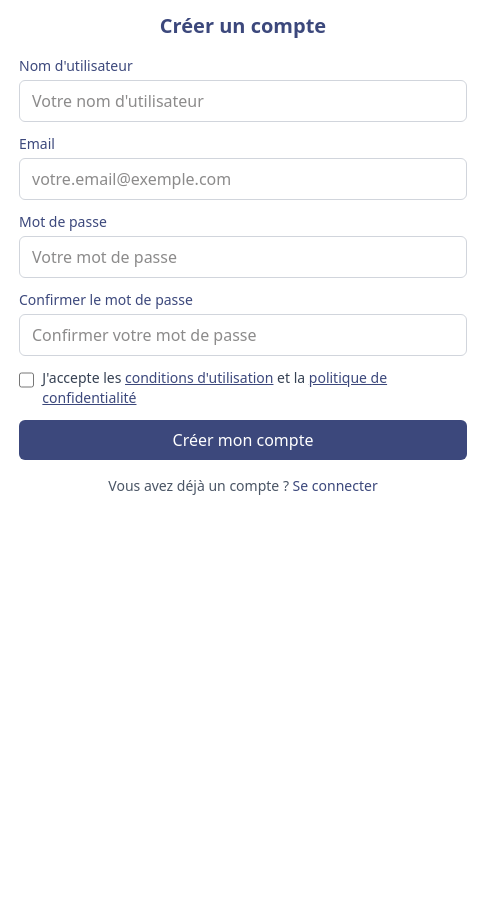
Register › shows an error toast when registerAction fails
In the field labelled "Nom d'utilisateur": (243, 101) [19, 80, 467, 122], type "user01"
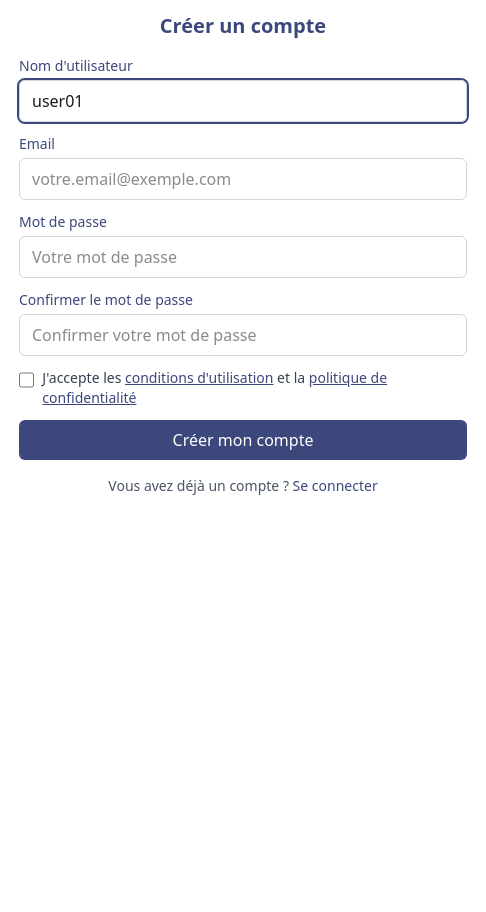
In the field labelled "Email": (243, 179) [19, 158, 467, 200], type "test@example.com"
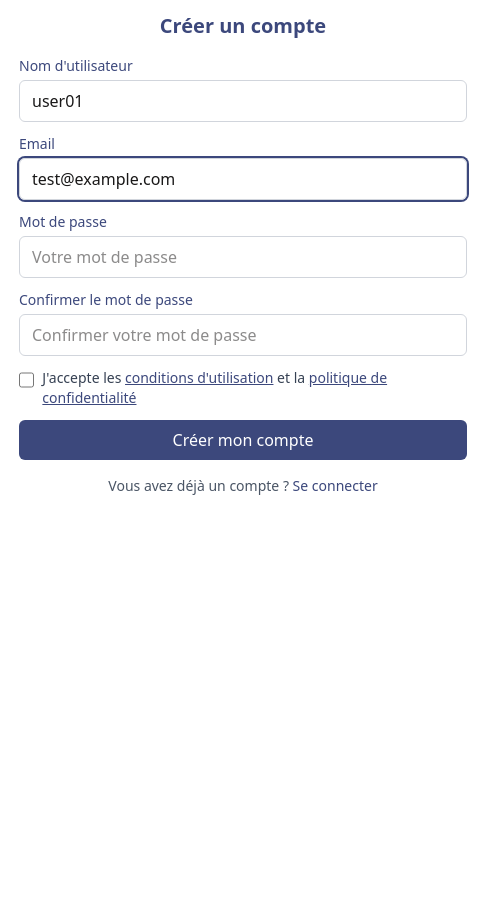
In the password field labelled "Mot de passe": (243, 257) [19, 236, 467, 278], type "GoodPass123!"
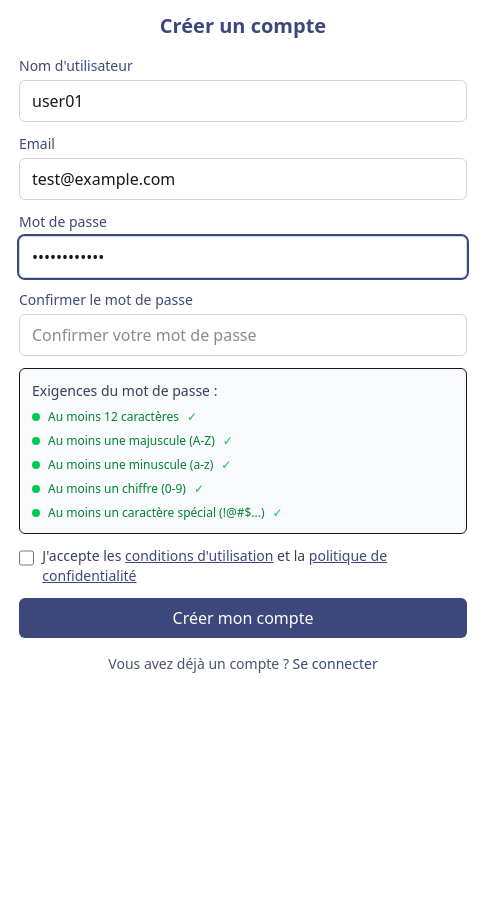
In the password field labelled "Confirmer le mot de passe": (243, 335) [19, 314, 467, 356], type "GoodPass123!"
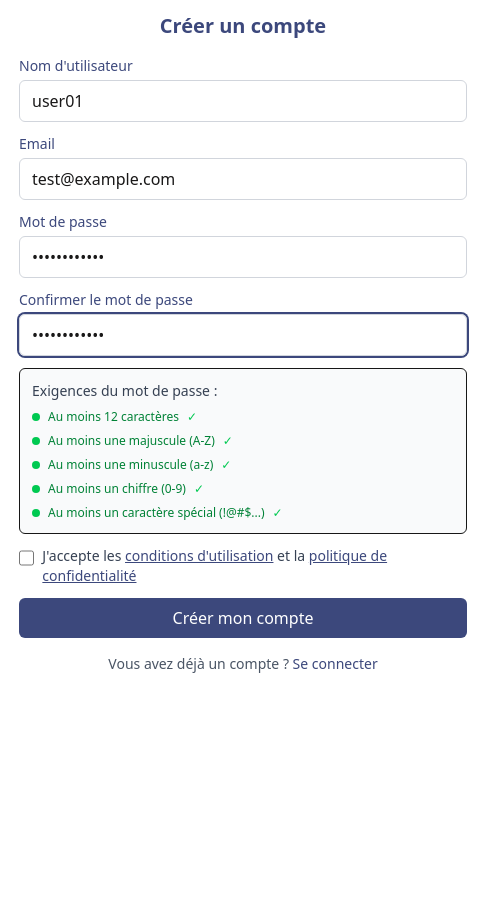
Click the checkbox labelled "conditions d'utilisation": (27, 558) [19, 550, 34, 566]
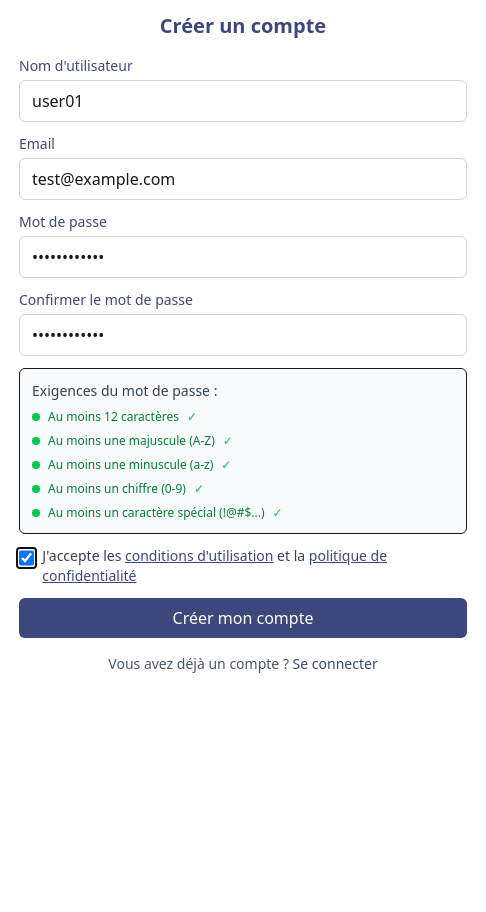
Click the button "Créer mon compte": (243, 618) [19, 598, 467, 638]
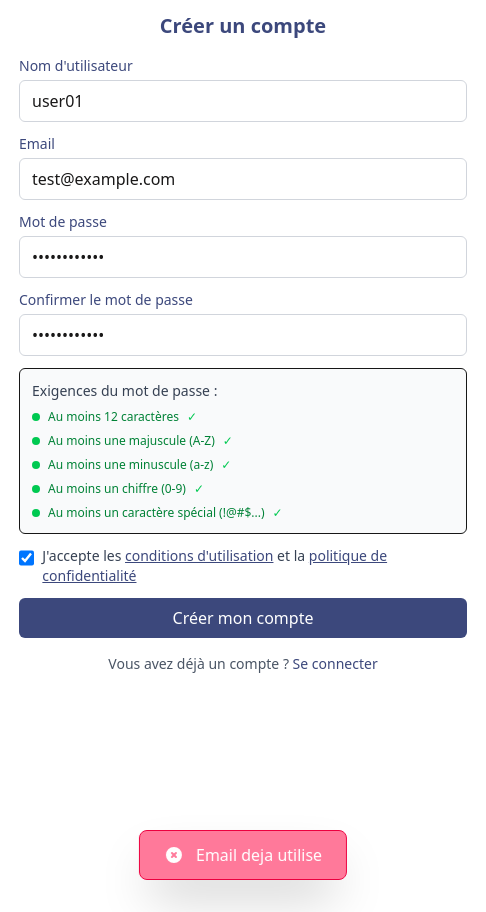
Now the message reads "Email deja utilise", box [196, 844, 322, 866]
